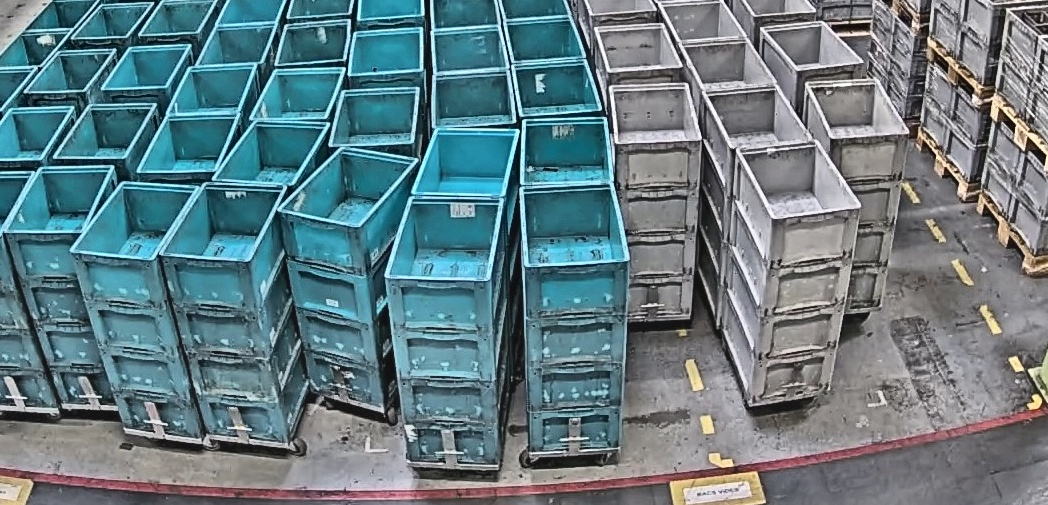4G: (720, 140, 862, 403), (801, 78, 911, 310), (608, 82, 703, 319)
B4: (157, 179, 311, 443), (275, 145, 421, 408), (383, 194, 512, 466), (69, 180, 203, 441), (518, 180, 631, 453), (6, 164, 129, 408)
